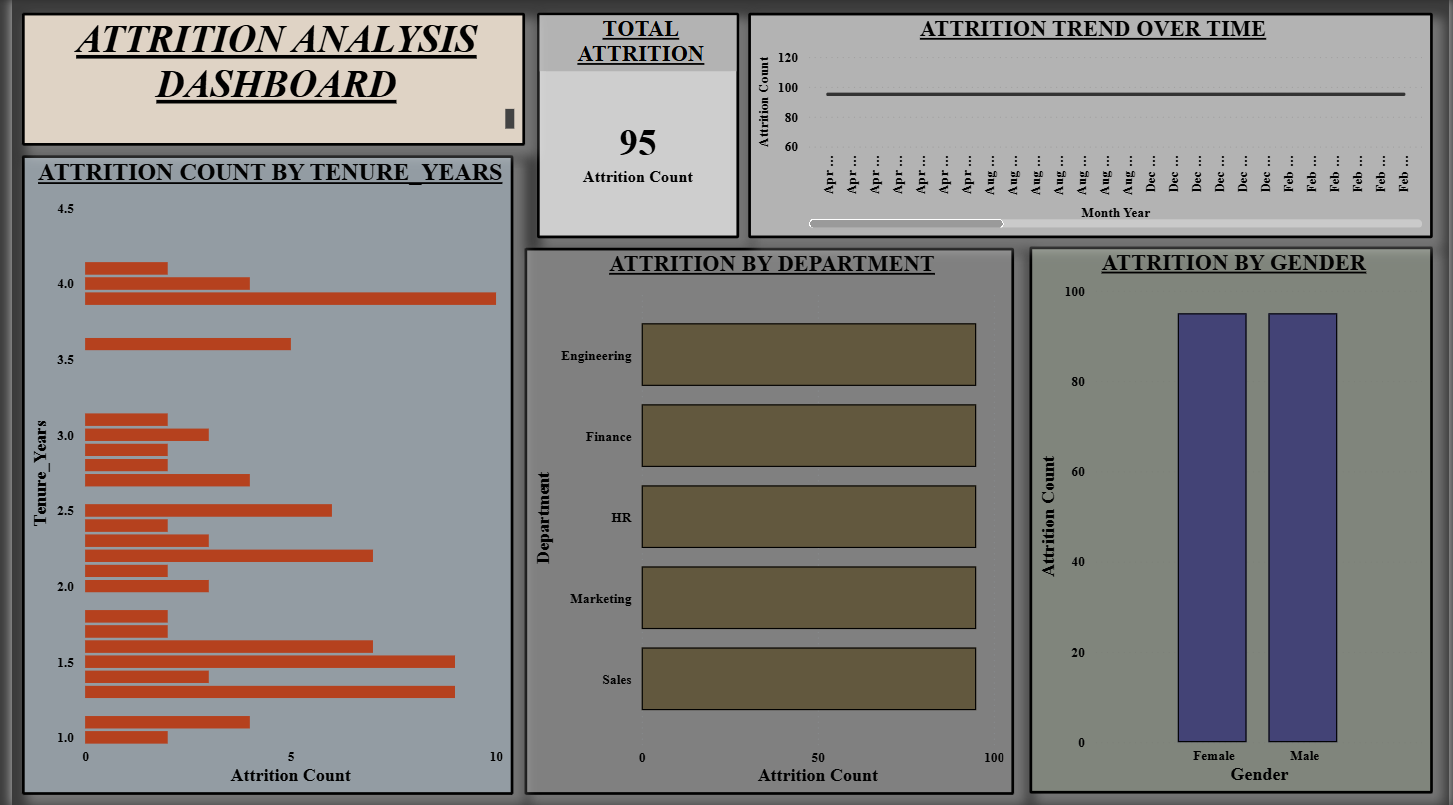

This screenshot's page, from the dashboard's own definition file:
{"tool":"powerbi","page":{"name":"Attrition Analysis","canvas":[1280,720],"ordinal":1},"visuals":[{"type":"card","title":"TOTAL ATTRITION","fields":{"Values":["Employee_dataset.Attrition Count"]},"box":[467.4,12.8,180.2,201.2],"z":0},{"type":"clusteredBarChart","title":"ATTRITION BY DEPARTMENT","fields":{"Category":["dDepartment.department"],"Y":["Employee_dataset.Attrition Count"]},"box":[456.9,221.1,436.1,487.4],"z":1000},{"type":"clusteredColumnChart","title":"ATTRITION BY GENDER","fields":{"Category":["dEmployee.gender"],"Y":["Employee_dataset.Attrition Count"]},"box":[905.8,220.9,359.3,487.2],"z":2000},{"type":"lineChart","title":"ATTRITION TREND OVER TIME","fields":{"Category":["dDate.Month Year"],"Y":["Employee_dataset.Attrition Count"]},"box":[655.8,12.8,609.3,201.2],"z":3000},{"type":"clusteredBarChart","title":"ATTRITION COUNT BY TENURE_YEARS","fields":{"Category":["Employee_dataset.tenure_years"],"Y":["Employee_dataset.Attrition Count"]},"box":[8.6,139.3,437.3,569.3],"z":4000},{"type":"textbox","title":"ATTRITION ANALYSIS DASHBOARD","box":[8.6,12.2,448.3,118.5],"z":5000}]}

Visuals, with their boxes in screenshot pixels (x1, y1, x2, y2), scaled from the page's 1280x720 canvas onto the 1453x805 screenshot:
"TOTAL ATTRITION" card: [left=531, top=14, right=735, bottom=239]
"ATTRITION BY DEPARTMENT" clusteredBarChart: [left=519, top=247, right=1014, bottom=792]
"ATTRITION BY GENDER" clusteredColumnChart: [left=1028, top=247, right=1436, bottom=792]
"ATTRITION TREND OVER TIME" lineChart: [left=744, top=14, right=1436, bottom=239]
"ATTRITION COUNT BY TENURE_YEARS" clusteredBarChart: [left=10, top=156, right=506, bottom=792]
"ATTRITION ANALYSIS DASHBOARD" textbox: [left=10, top=14, right=519, bottom=146]
